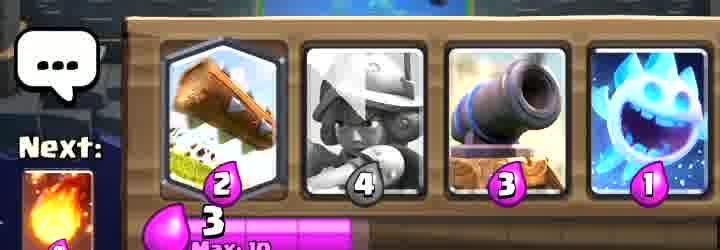cannon: (448, 54, 556, 199)
fireball: (25, 172, 93, 250)
ice-spirit: (595, 46, 710, 200)
log: (169, 43, 281, 183)
